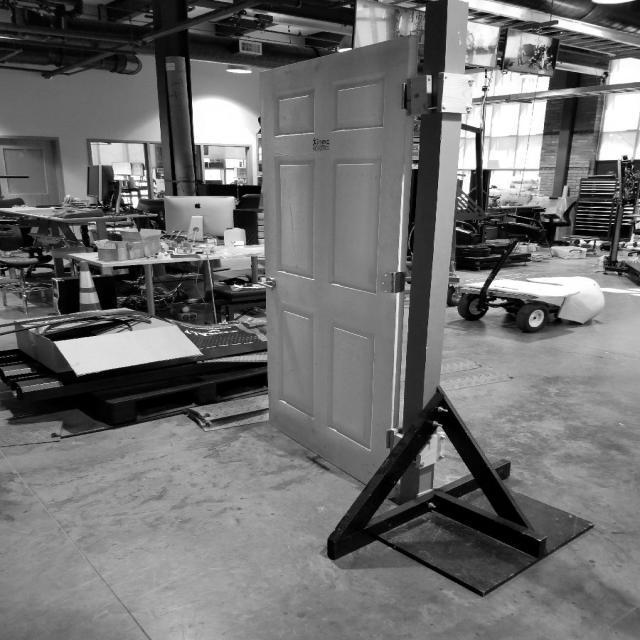door: (253, 32, 422, 502), (254, 276, 283, 288)
